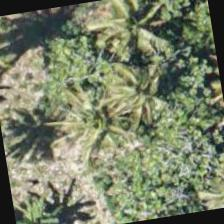Kelapa_Sawit: (90, 46, 194, 150), (49, 66, 152, 170), (78, 0, 181, 89), (183, 156, 223, 213)
